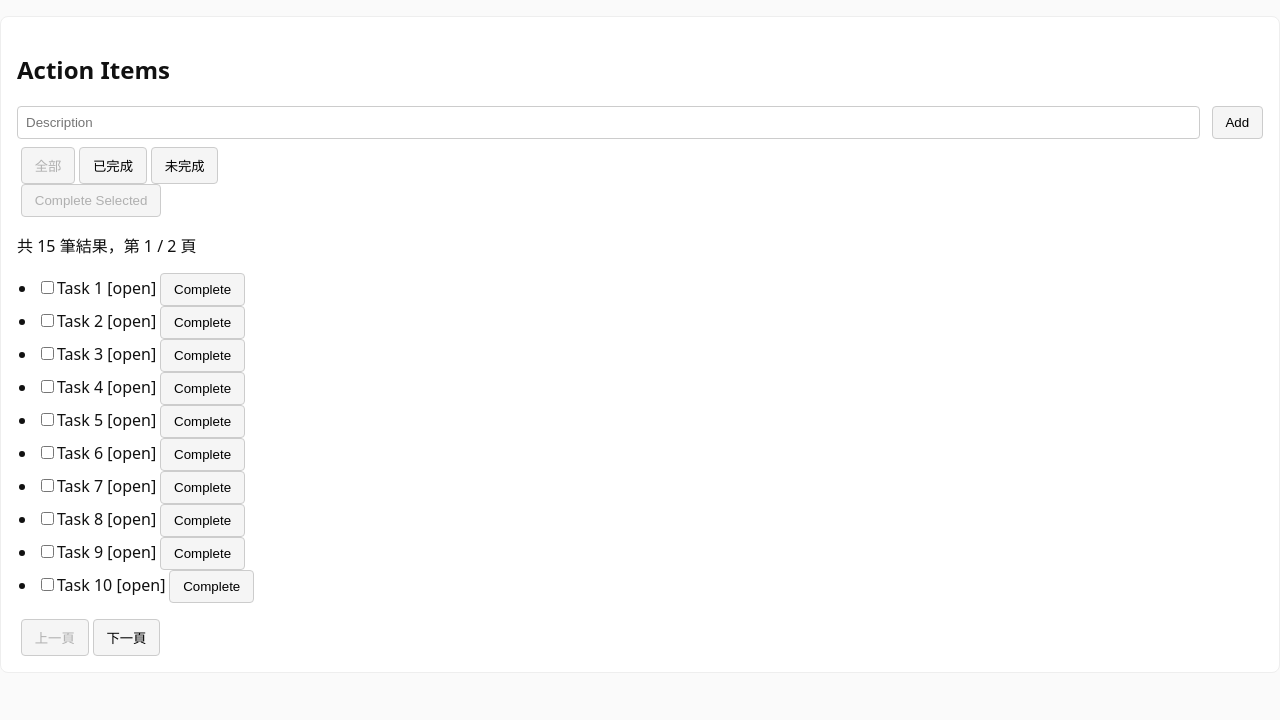
Test: ActionItemsSection › paginates action items with prev/next controls
Expected: the list item "Task 1 [open] Complete" is shown, [41,273,245,306]
Expected: the text "共 15 筆結果，第 1 / 2 頁" is shown, [17,235,197,257]
Click the button "下一頁".
click(126, 637)  # box [93,619,160,656]
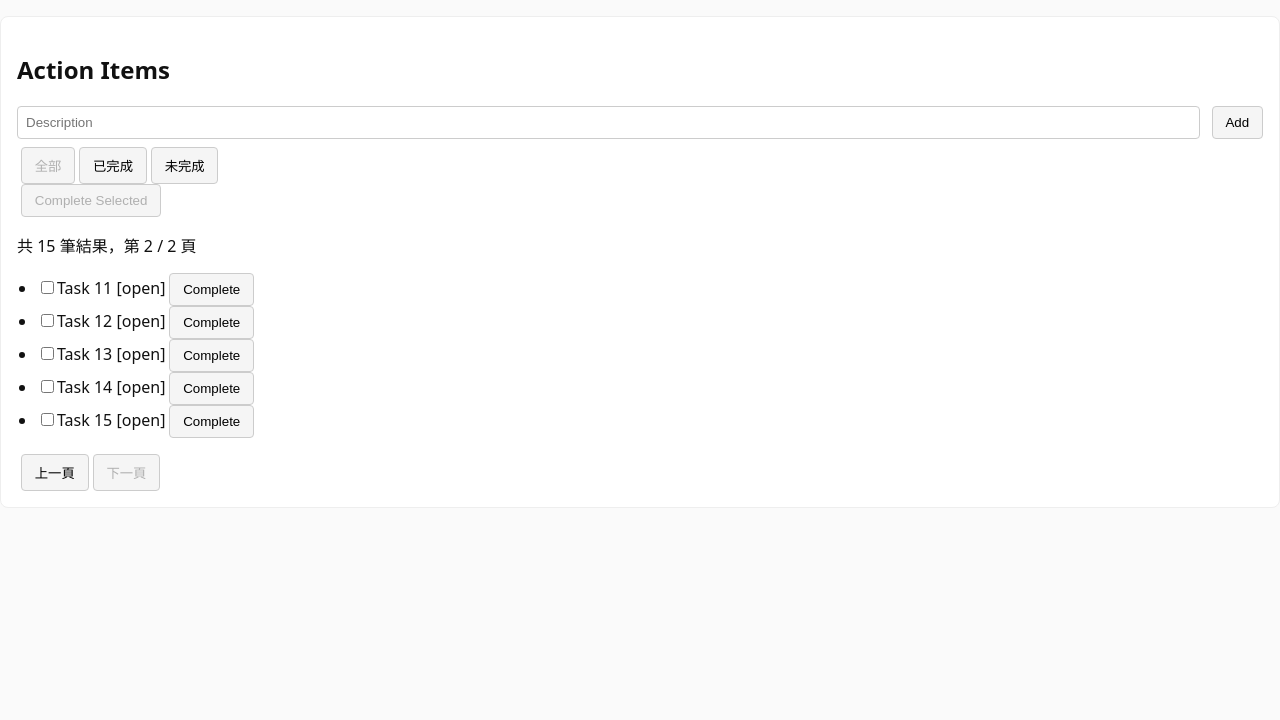
Result: the list item "Task 11 [open] Complete" is shown at [41,273,254,306]
Result: the text "共 15 筆結果，第 2 / 2 頁" is shown at [17,235,197,257]
Result: the button "下一頁" is disabled at [93,454,160,491]
